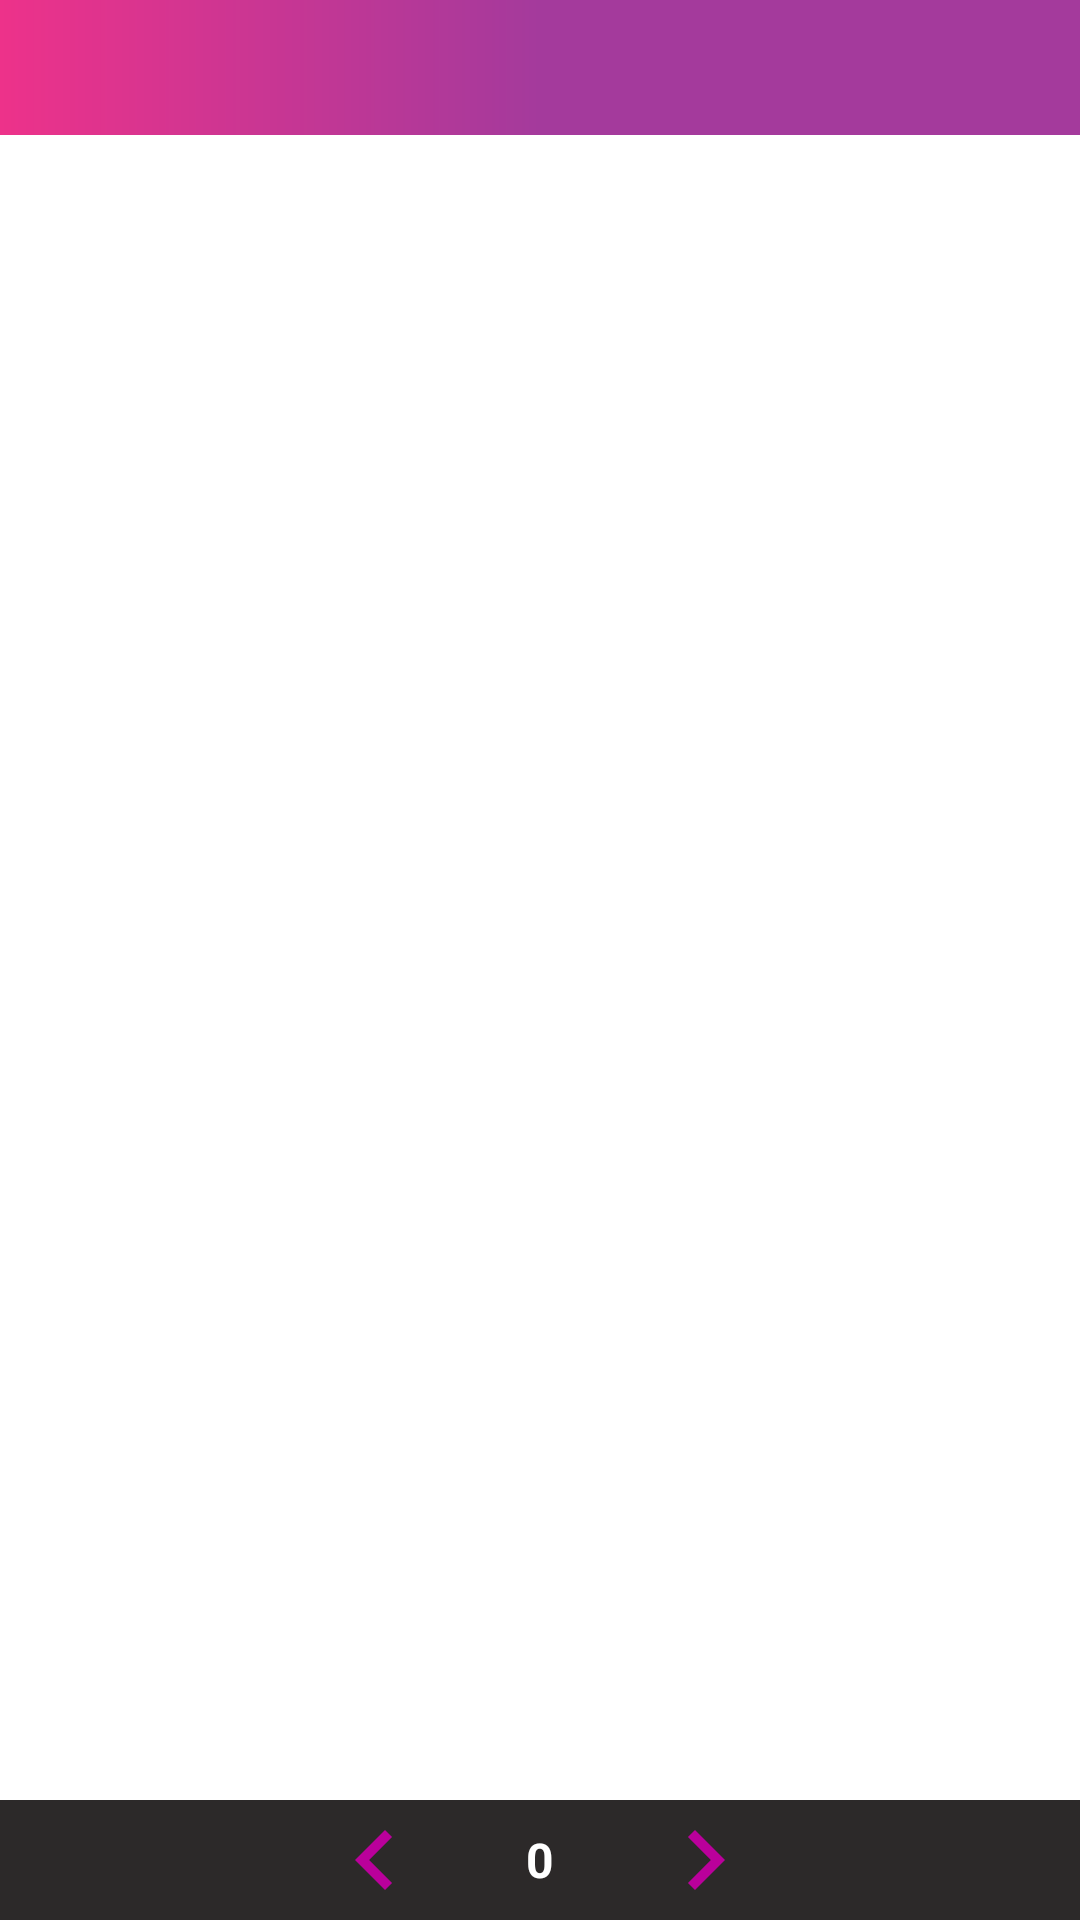

Screen size 1080x1920. Icon name, then its center in pixels as point (x, y):
mock left: point (373, 1860)
mock right: point (706, 1860)
